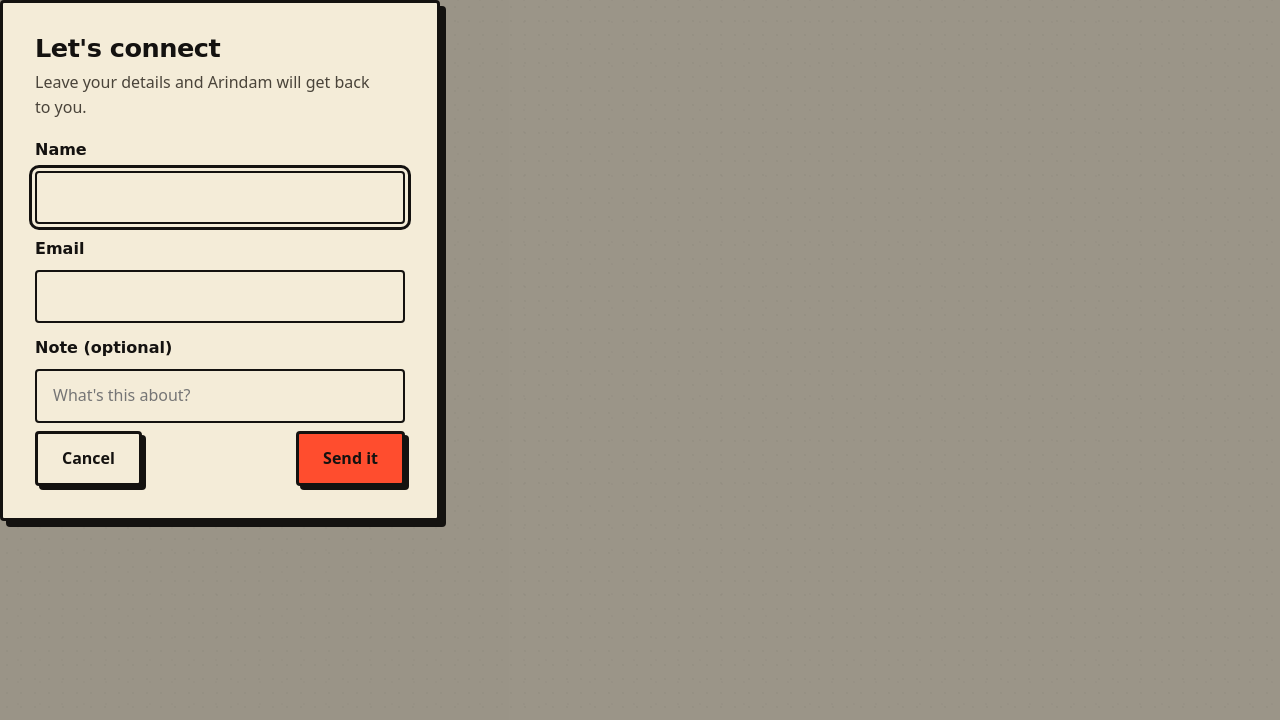
Test: ConnectForm submit › posts the lead and shows the success state
Type "Jane" into the field labelled "Name" at [220, 197], box top-left (35, 171), bottom-right (405, 224)
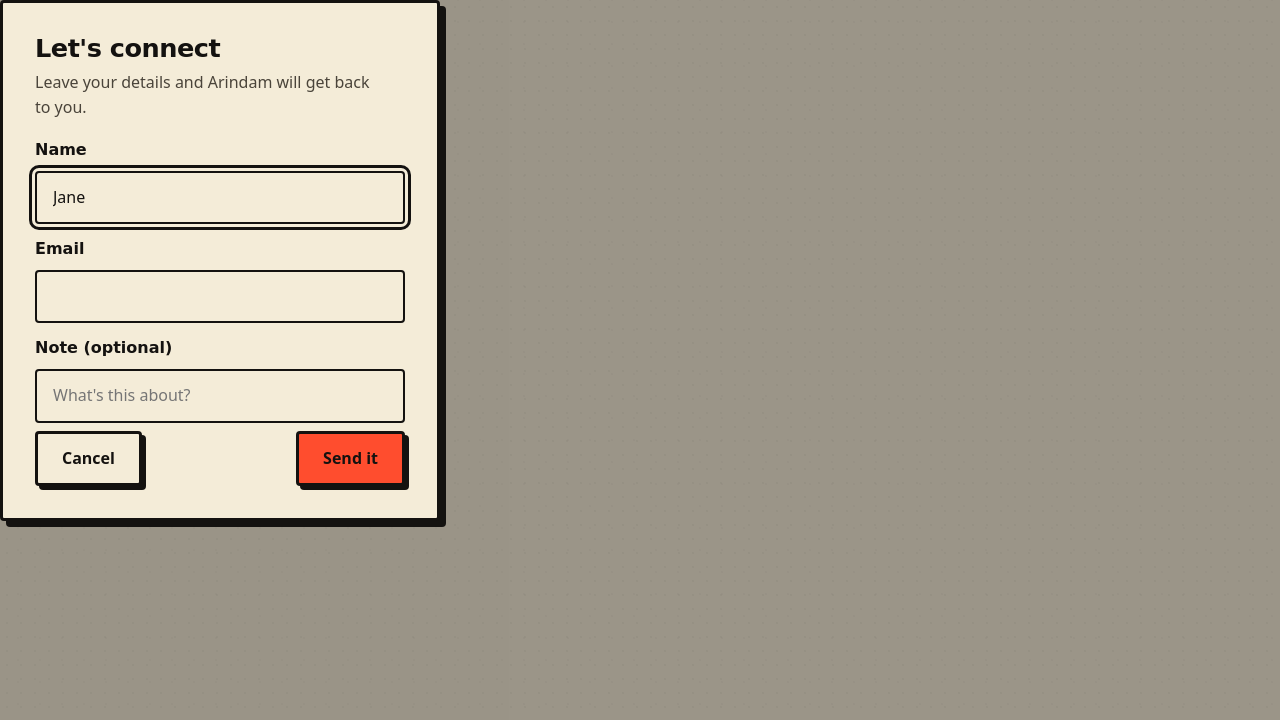
Type "jane@example.com" into the field labelled "Email" at [220, 297], box top-left (35, 270), bottom-right (405, 323)
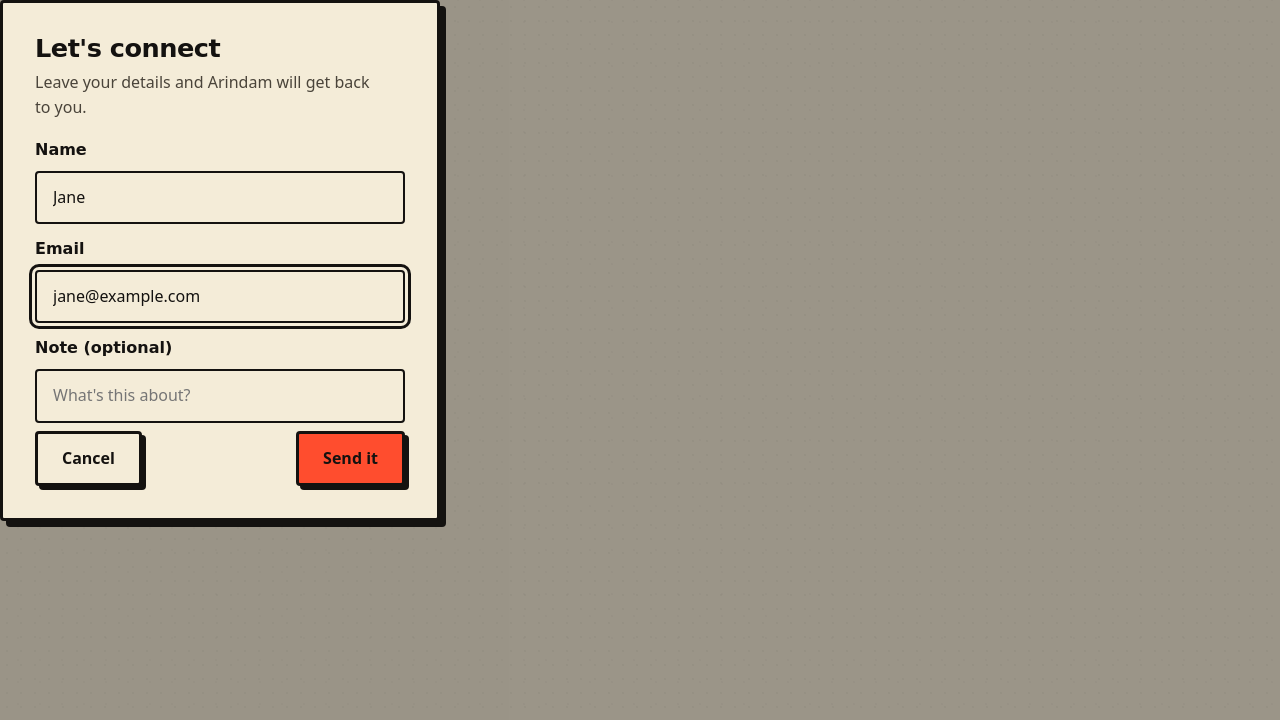
Click the button "Send it" at [351, 458], box top-left (296, 431), bottom-right (405, 486)
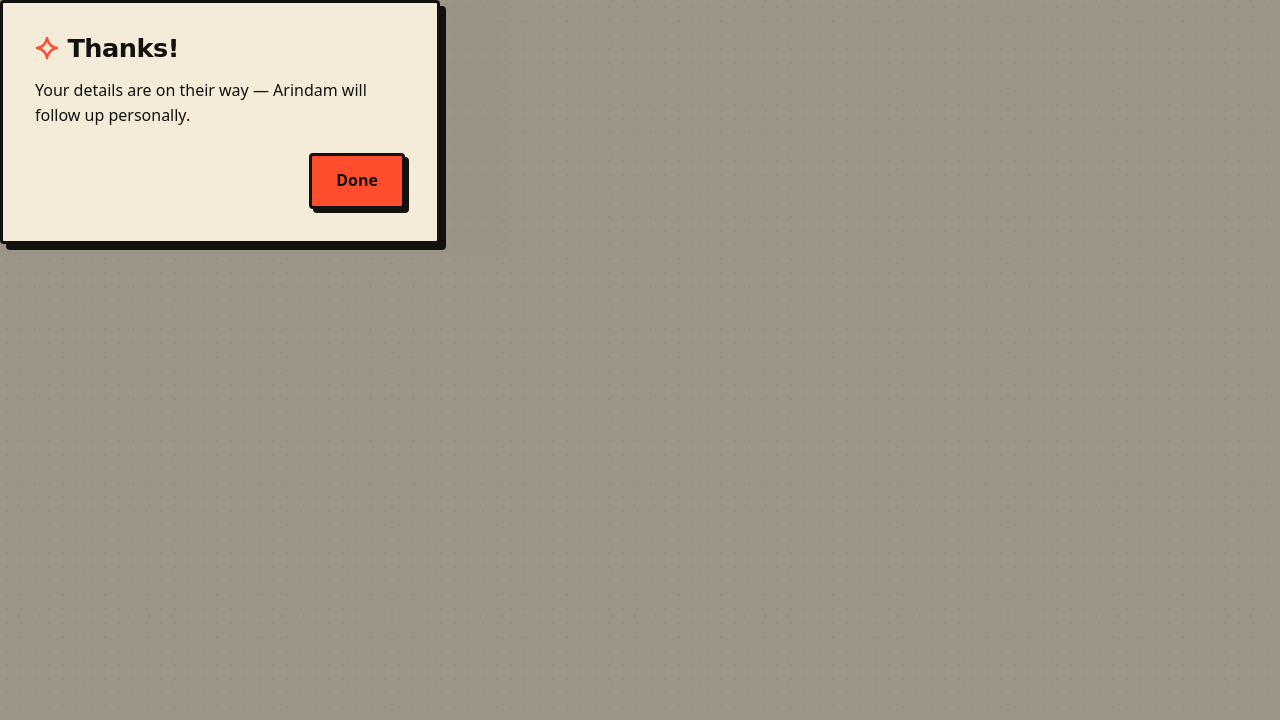
Expected: the heading "Thanks!" is shown, top-left (35, 33), bottom-right (179, 63)
